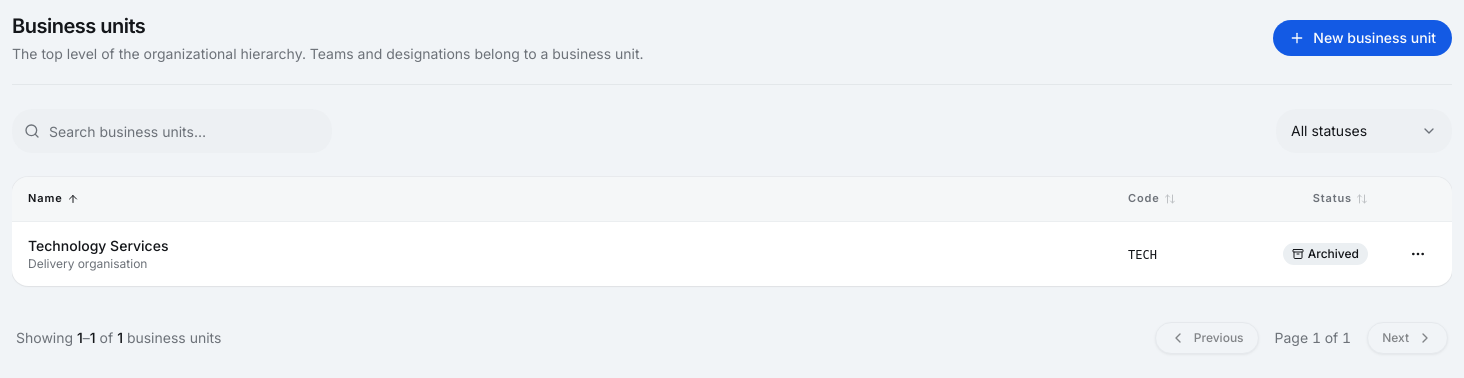
Test: MasterListPage › offers restore instead of archive for an archived record
The width and height of the screenshot is (1464, 378).
Click the button named "actions for technology services": (1418, 254) [1400,236,1436,272]
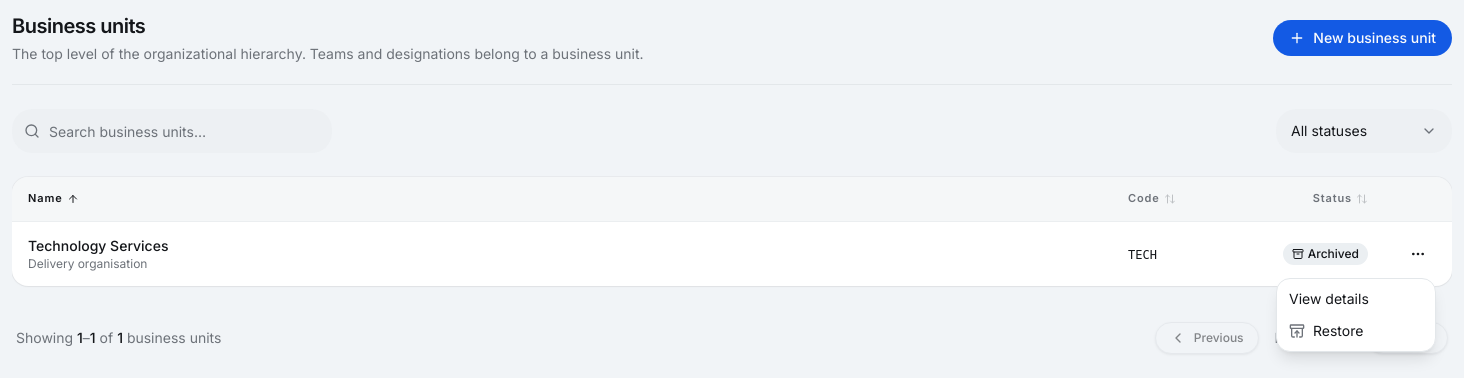
Expected: the menu item "Restore" is shown, [1289,322,1363,339]
